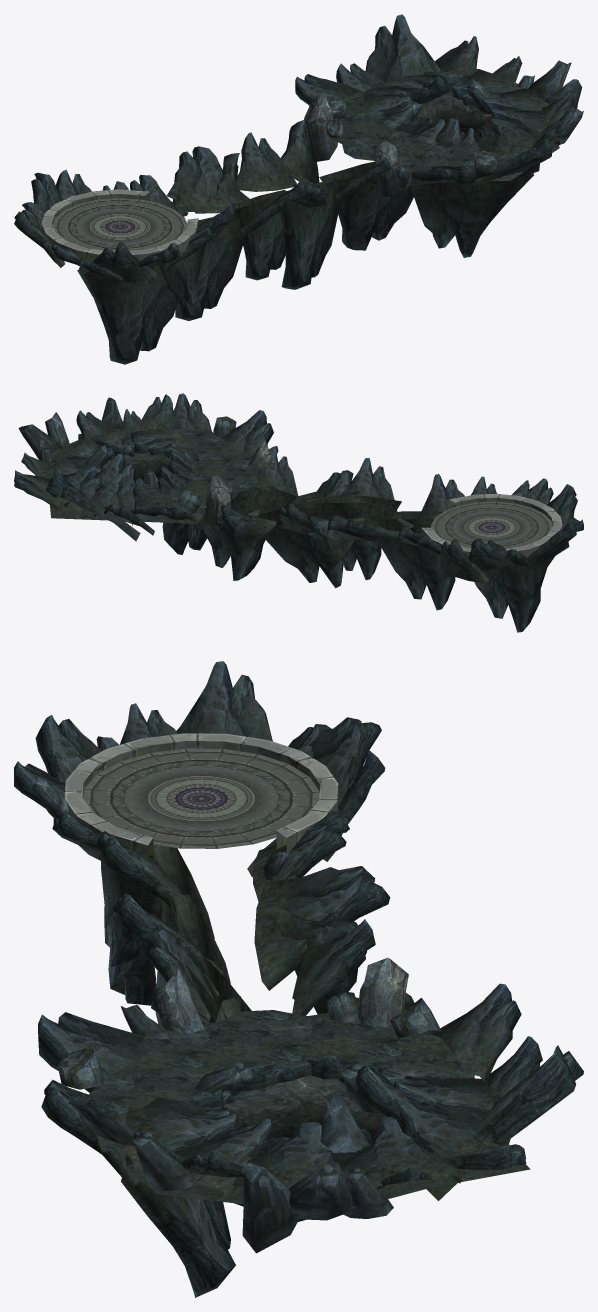
Rendered from SJBoss_Dibiao.FBX.
The picture shows the model from 3 angles, top to bottom: view 1: azimuth 30°, elevation 25°; view 2: azimuth 150°, elevation 25°; view 3: azimuth 270°, elevation 25°; orthographic projection. The views are drawn at different scales.
Visible parts, largest first — view 1: SJBoss_Dibiao_01; view 2: SJBoss_Dibiao_01; view 3: SJBoss_Dibiao_01.
Boxes of the visible parts, left/top/right/bottom form: SJBoss_Dibiao_01: left=14, top=14, right=583, bottom=364; SJBoss_Dibiao_01: left=14, top=393, right=583, bottom=632; SJBoss_Dibiao_01: left=14, top=661, right=583, bottom=1297.
Bounding box in the file's own units: 3214 × 877 × 1538.
